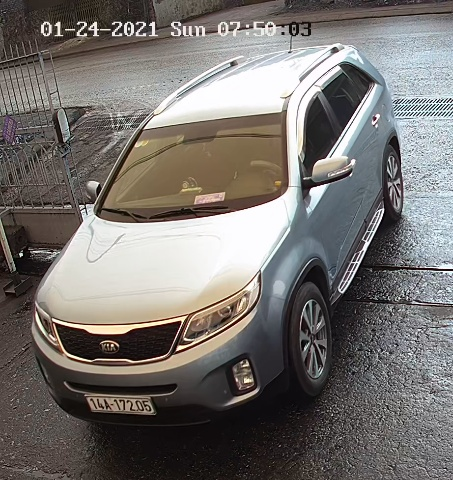vehicle plate: (79, 388, 162, 424)
